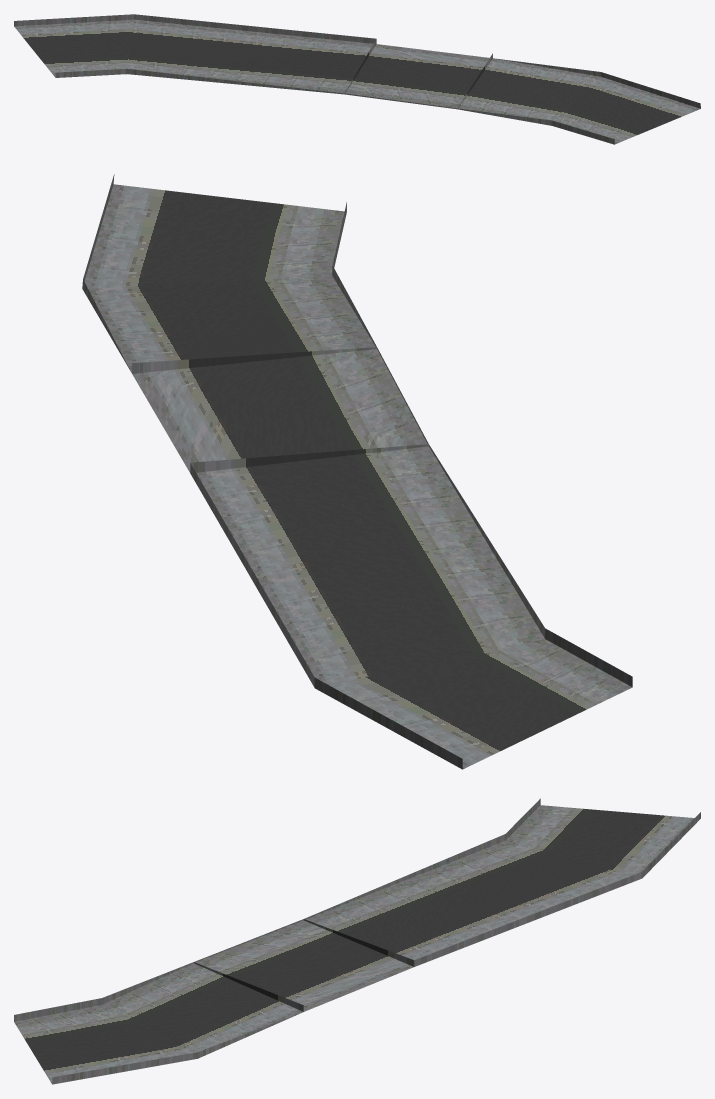
File: lodroads_law14.obj
3 views of the same model, one above another, from view 1: azimuth 30°, elevation 25°; view 2: azimuth 150°, elevation 25°; view 3: azimuth 270°, elevation 25° (orthographic). The views are drawn at different scales.
Parts seen in each view (by area): view 1: LODroads_law14; view 2: LODroads_law14; view 3: LODroads_law14.
Boxes of the visible parts, left/top/right/bottom form: LODroads_law14: left=14, top=14, right=700, bottom=144; LODroads_law14: left=82, top=174, right=632, bottom=769; LODroads_law14: left=14, top=798, right=700, bottom=1084.
Size of the model in its own units: 87.93 by 1.81 by 91.35.
Materials: 1 (1 with a texture image).
